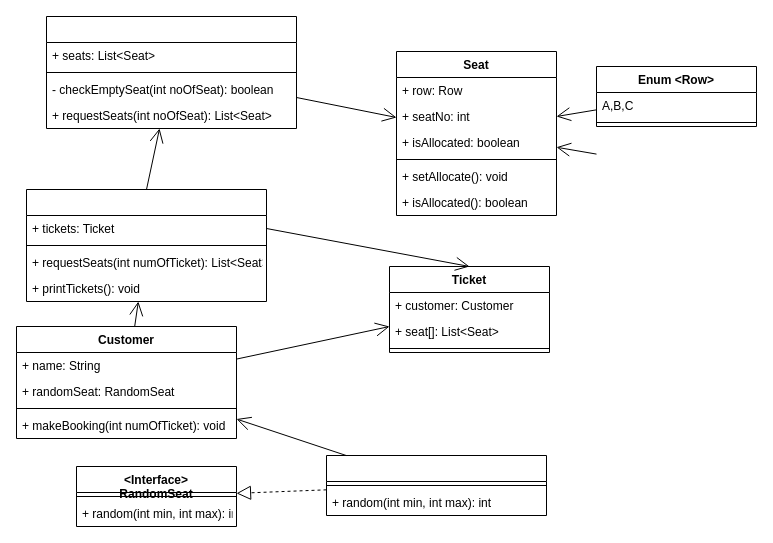
Some shapes in this 773 by 543 pixel diagram are drawn without their labels. Each missing label, with the box of its shape:
BookingSystem: (26, 188, 266, 302)
RandomSeatImpl: (326, 454, 546, 516)
SeatingPlan: (46, 16, 296, 128)
